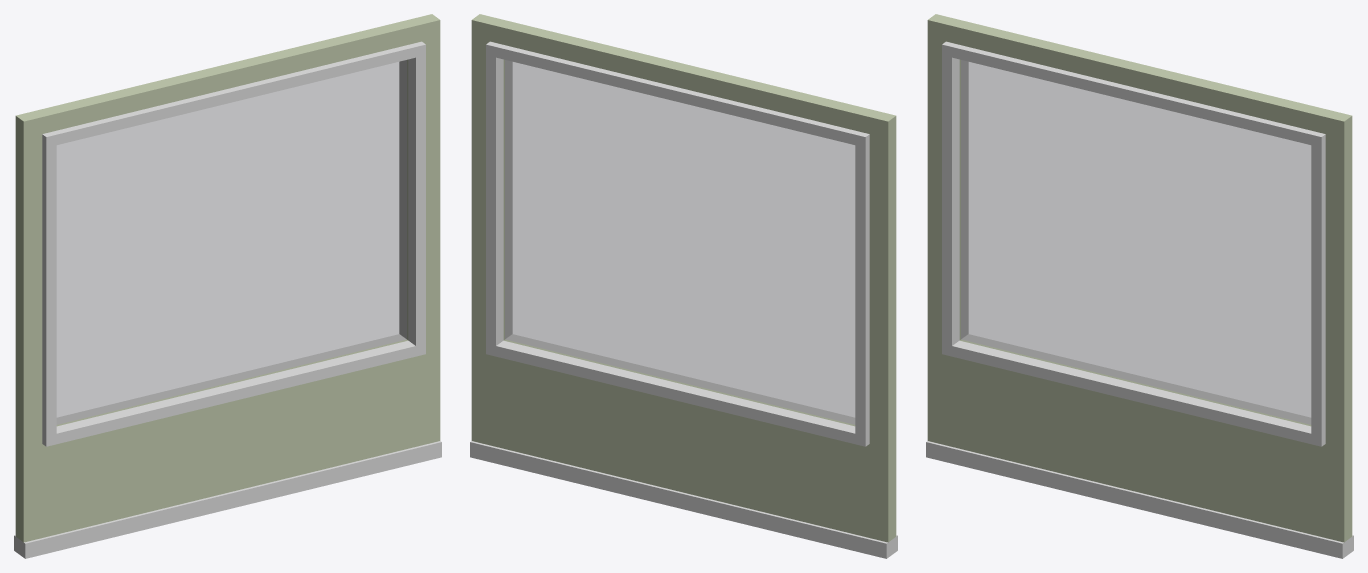
File: MODdoubleWindow.fbx
The picture shows the model from 3 angles, left to right: view 1: azimuth 30°, elevation 25°; view 2: azimuth 150°, elevation 25°; view 3: azimuth 330°, elevation 25°; orthographic projection.
Visible parts, largest first — view 1: Cube; view 2: Cube; view 3: Cube.
Boxes of the visible parts, <box> form: Cube: <box>14,14,441,558</box>; Cube: <box>470,14,897,558</box>; Cube: <box>926,14,1353,558</box>.
Size of the model in its own units: 400 by 400 by 27.24.
